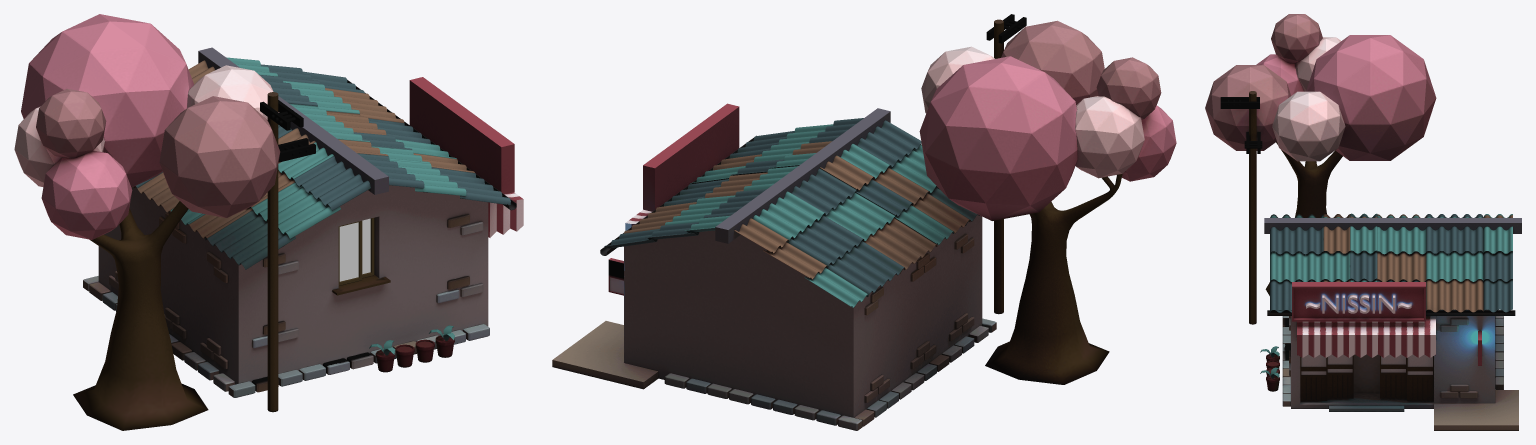
File: House.glb
3 renders of one model, left to right at view 1: azimuth 30°, elevation 25°; view 2: azimuth 150°, elevation 25°; view 3: azimuth 270°, elevation 25°, orthographic. The views are drawn at different scales.
Parts seen in each view (by area): view 1: Arbol.001, Cube.002, Tejado.001, Cube.004, Cube.005, Poste.001, Trave.001, Cube.006, Maceta.001, Plane.002; view 2: Arbol.001, Cube.002, Tejado.001, Cube.004, Cube.005, Plane.001, Trave.001, Poste.001; view 3: Arbol.001, Tejado.001, Cube.002, Plane.002, Cube.003, Cube.005, Plane.001, Trave.001, Poste.001, Cube.004, Text.001, Maceta.001 (+1 smaller).
Part boxes in pixels (x1=…): Arbol.001: x1=14, y1=14, x2=280, y2=430; Cube.002: x1=98, y1=185, x2=488, y2=384; Tejado.001: x1=133, y1=57, x2=510, y2=269; Cube.004: x1=83, y1=212, x2=489, y2=397; Cube.005: x1=409, y1=77, x2=514, y2=194; Poste.001: x1=260, y1=92, x2=315, y2=412; Trave.001: x1=198, y1=47, x2=388, y2=194; Cube.006: x1=338, y1=218, x2=374, y2=285; Maceta.001: x1=369, y1=325, x2=454, y2=372; Plane.002: x1=488, y1=192, x2=523, y2=237; Arbol.001: x1=919, y1=20, x2=1176, y2=384; Cube.002: x1=624, y1=172, x2=982, y2=417; Tejado.001: x1=604, y1=118, x2=979, y2=307; Cube.004: x1=664, y1=234, x2=996, y2=430; Cube.005: x1=643, y1=103, x2=739, y2=211; Plane.001: x1=552, y1=321, x2=658, y2=389; Trave.001: x1=715, y1=108, x2=890, y2=243; Poste.001: x1=986, y1=14, x2=1026, y2=314; Arbol.001: x1=1205, y1=14, x2=1436, y2=295; Tejado.001: x1=1270, y1=213, x2=1512, y2=312; Cube.002: x1=1291, y1=309, x2=1495, y2=408; Plane.002: x1=1297, y1=316, x2=1435, y2=357; Cube.003: x1=1300, y1=354, x2=1433, y2=400; Cube.005: x1=1292, y1=282, x2=1425, y2=321; Plane.001: x1=1329, y1=390, x2=1518, y2=430; Trave.001: x1=1264, y1=218, x2=1521, y2=233; Poste.001: x1=1220, y1=91, x2=1262, y2=324; Cube.004: x1=1282, y1=310, x2=1503, y2=406; Text.001: x1=1306, y1=294, x2=1411, y2=313; Maceta.001: x1=1260, y1=346, x2=1279, y2=391.
Size of what is drawn, in the model's own units: 13.49 by 8.89 by 9.99.
3 materials, 1 textured.
